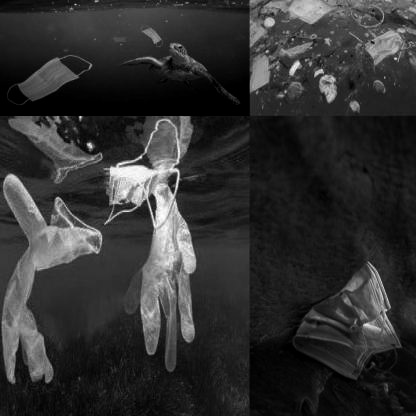Mask: (289, 261, 402, 382), (0, 46, 96, 116), (103, 158, 177, 230), (364, 26, 406, 66), (139, 22, 171, 48), (109, 33, 134, 46)
glove: (1, 170, 102, 389), (123, 198, 199, 373)
